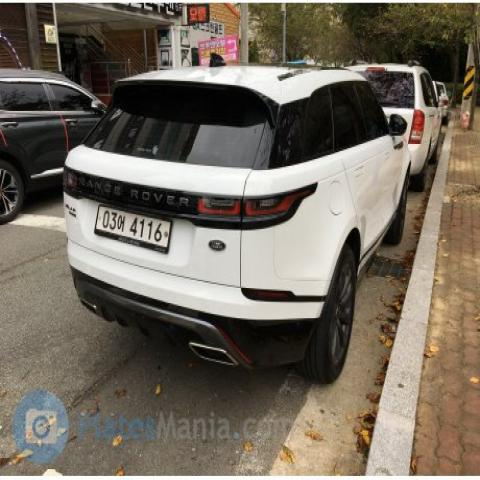LP: (87, 195, 184, 263)
